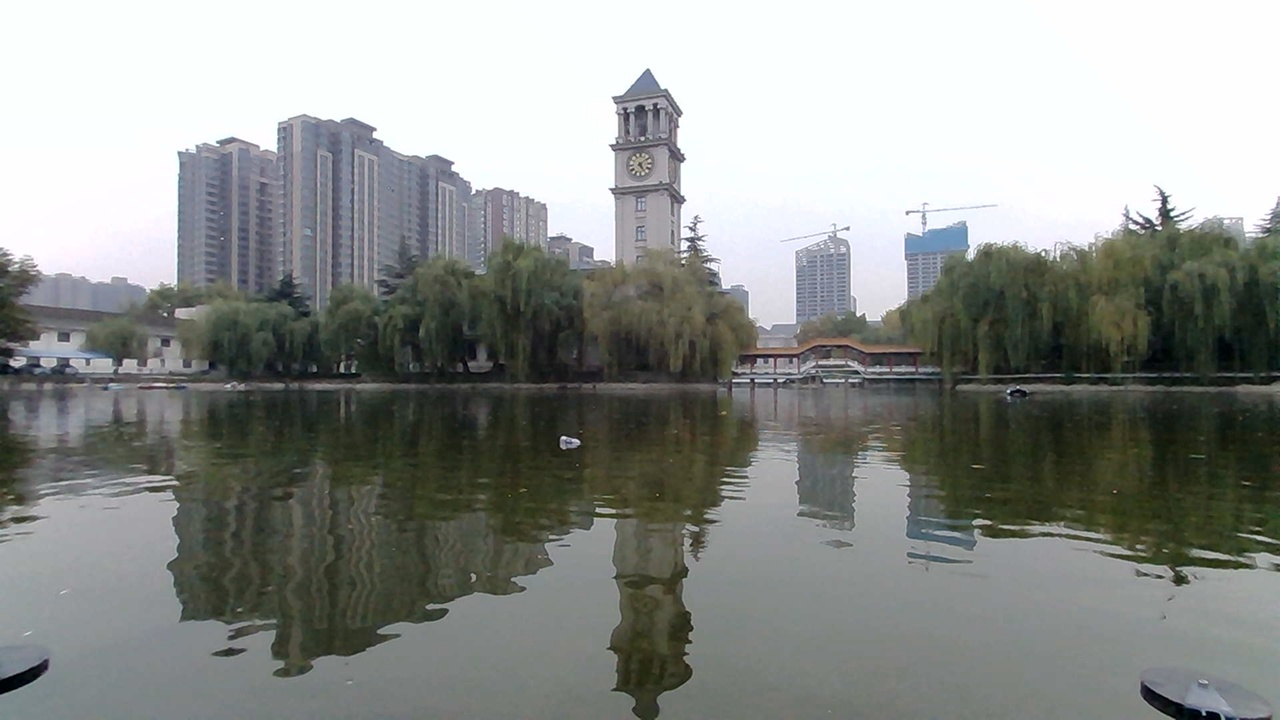bottle: (551, 420, 603, 458)
